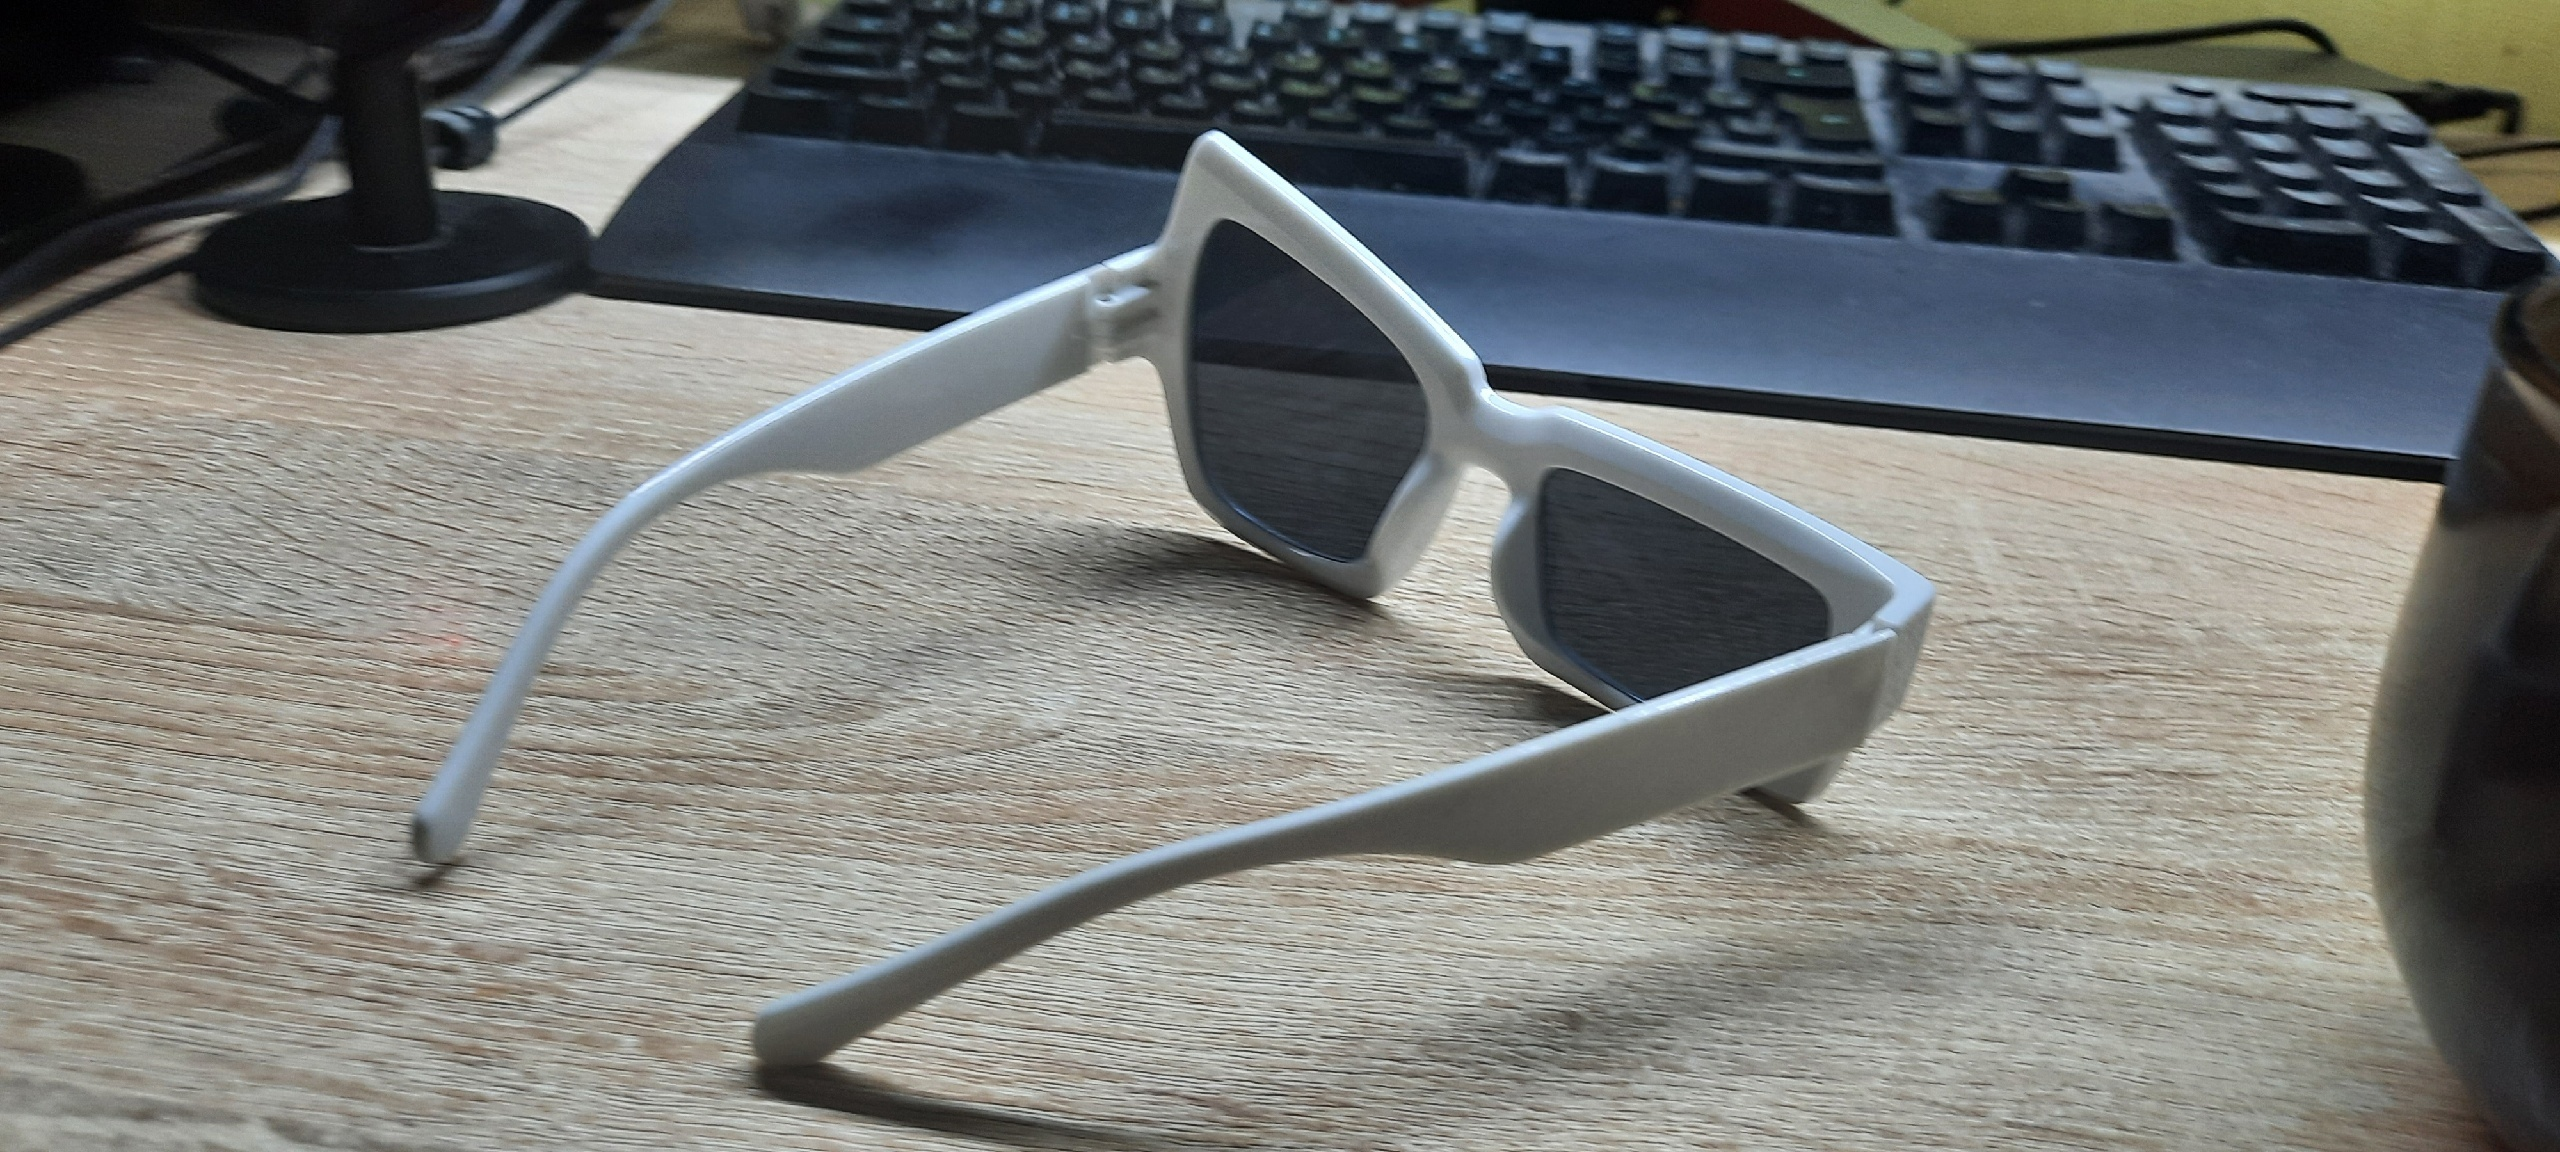glasses: (415, 135, 1930, 1066)
